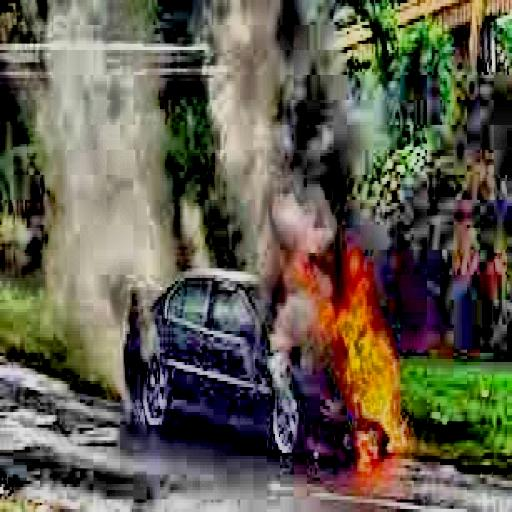fire: (278, 216, 416, 466)
